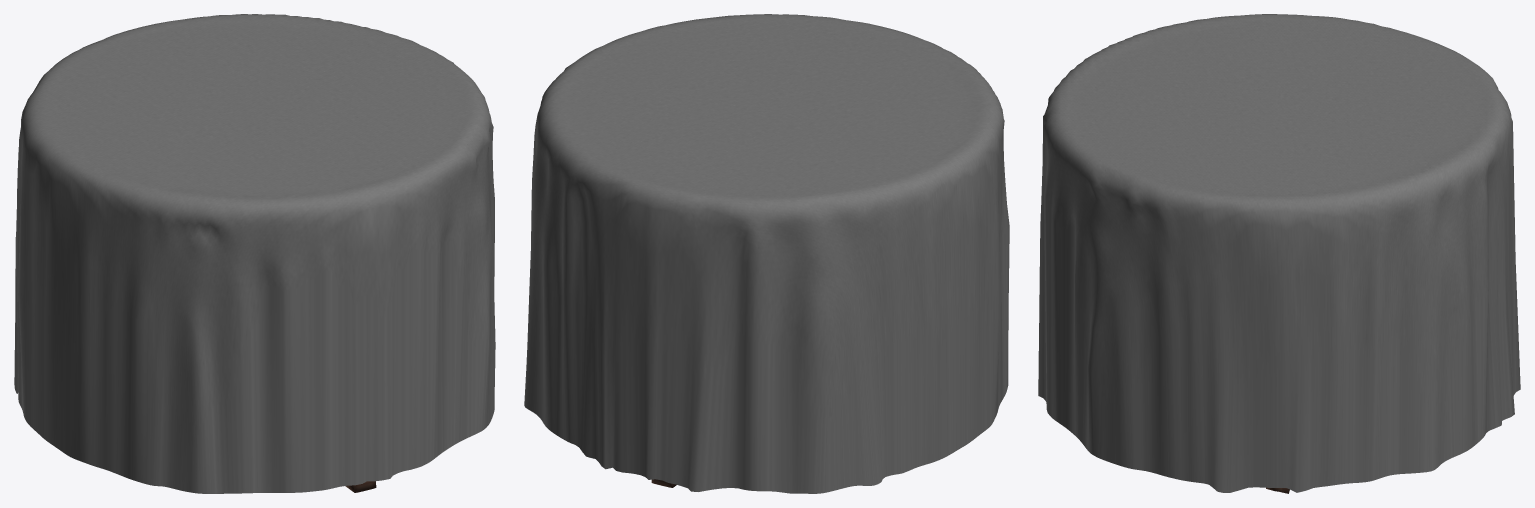
Rendered from BallroomTable.obj.
The picture shows the model from 3 angles, left to right: view 1: azimuth 30°, elevation 25°; view 2: azimuth 150°, elevation 25°; view 3: azimuth 270°, elevation 25°; orthographic projection.
Parts seen in each view (by area): view 1: Cube.002; view 2: Cube.002; view 3: Cube.002.
Part boxes in pixels (left/top/right/bottom): Cube.002: left=14, top=14, right=495, bottom=493; Cube.002: left=524, top=14, right=1009, bottom=493; Cube.002: left=1038, top=14, right=1520, bottom=493.
Size of the model in its own units: 1.3 by 0.8972 by 1.31.
